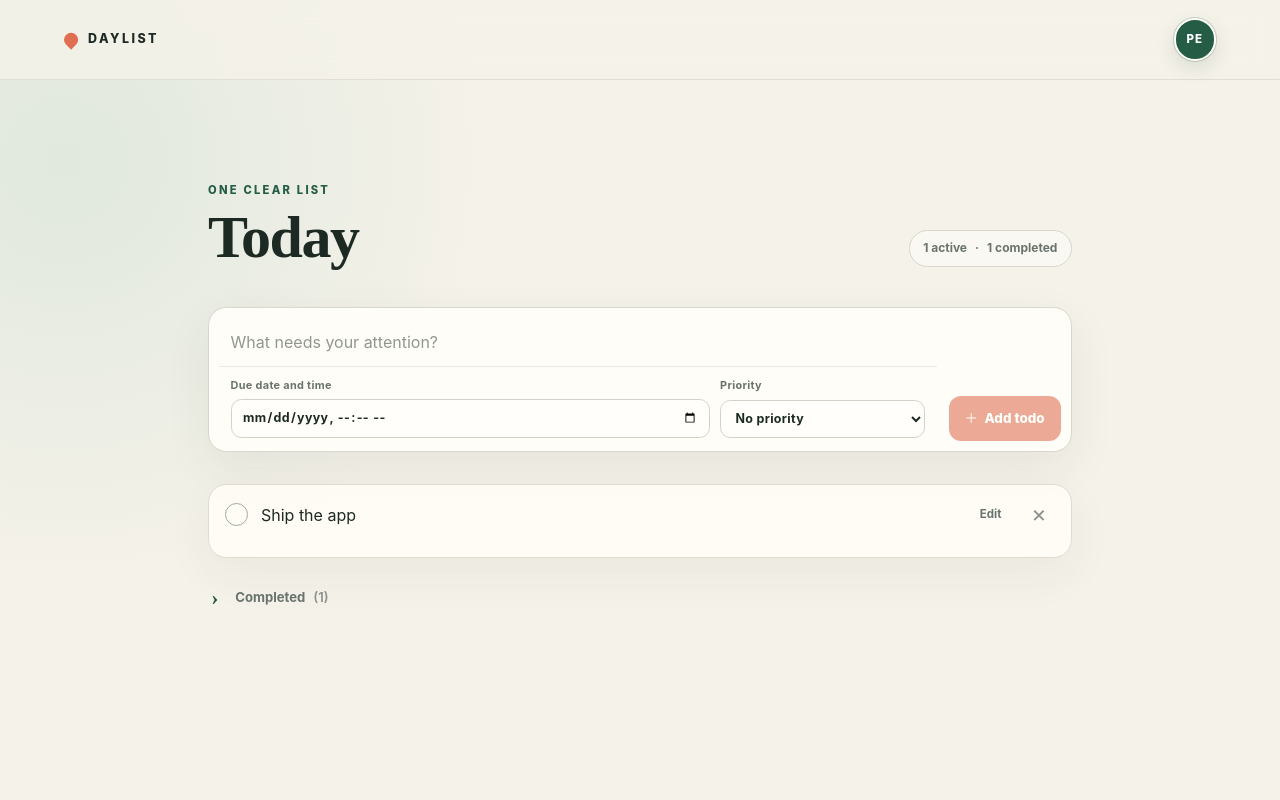
Test case: App › keeps completed todos in a collapsible section
expect the list named "Active todos" shows "Ship the app": met, box 261,504 -> 356,524
expect the text "Plan the day" is not shown: met
Click the button "› Completed (1)". click: (270, 597)
box: 208,576 -> 1072,620
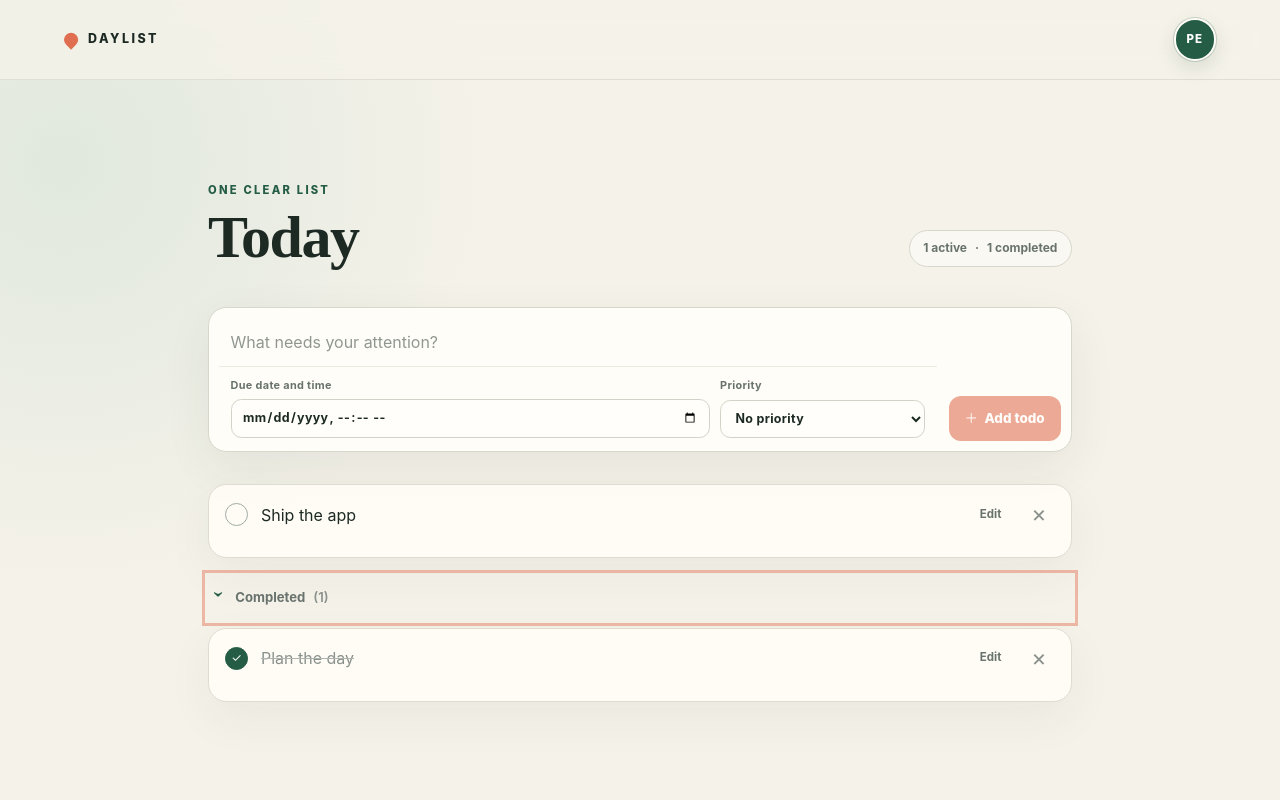
expect the button "› Completed (1)" is expanded: met
expect the list named "Completed todos" shows "Plan the day": met, box 261,648 -> 354,668
Click the button "› Completed (1)". click: (270, 597)
box: 208,576 -> 1072,620
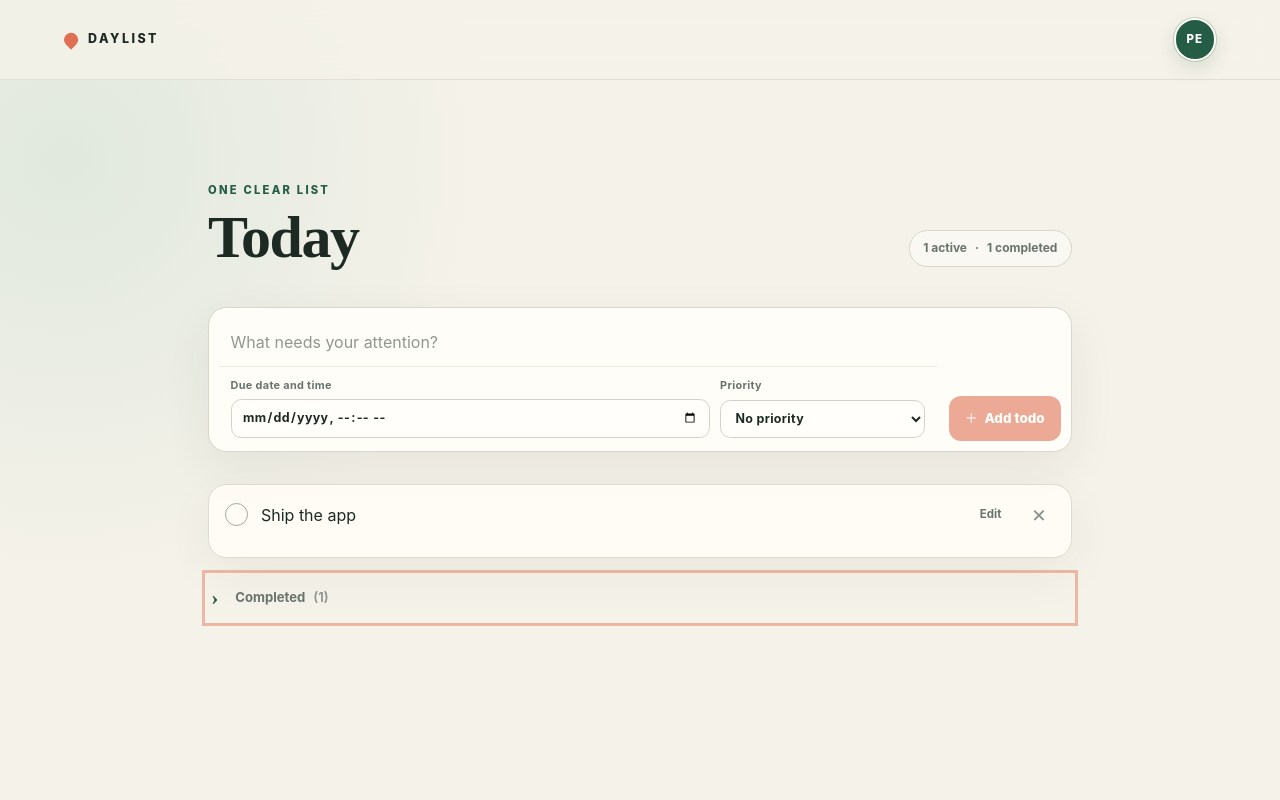
expect the button "› Completed (1)" is collapsed: met, box 208,576 -> 1072,620
expect the text "Plan the day" is gone: met
